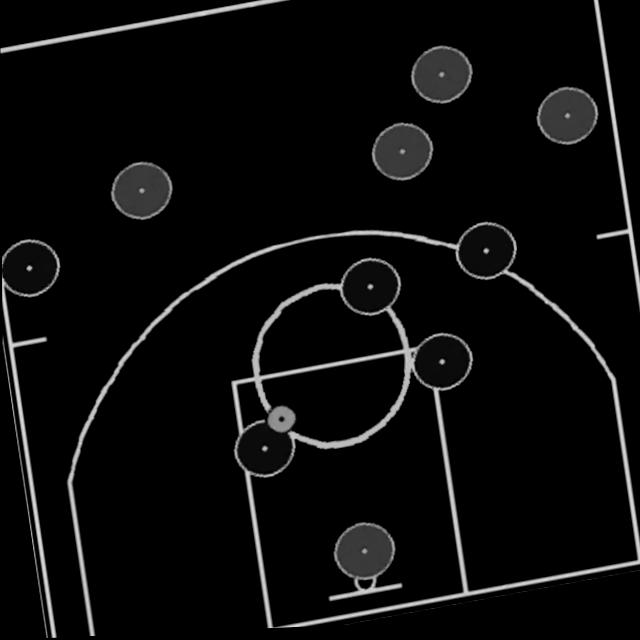Basketball: (264, 402, 299, 437)
Team_A: (452, 221, 521, 289), (408, 331, 476, 400), (335, 256, 403, 324), (230, 417, 297, 485), (1, 234, 63, 301)
Team_B: (107, 158, 176, 226), (368, 121, 437, 189), (407, 45, 476, 113), (533, 86, 601, 154), (330, 521, 397, 588)
